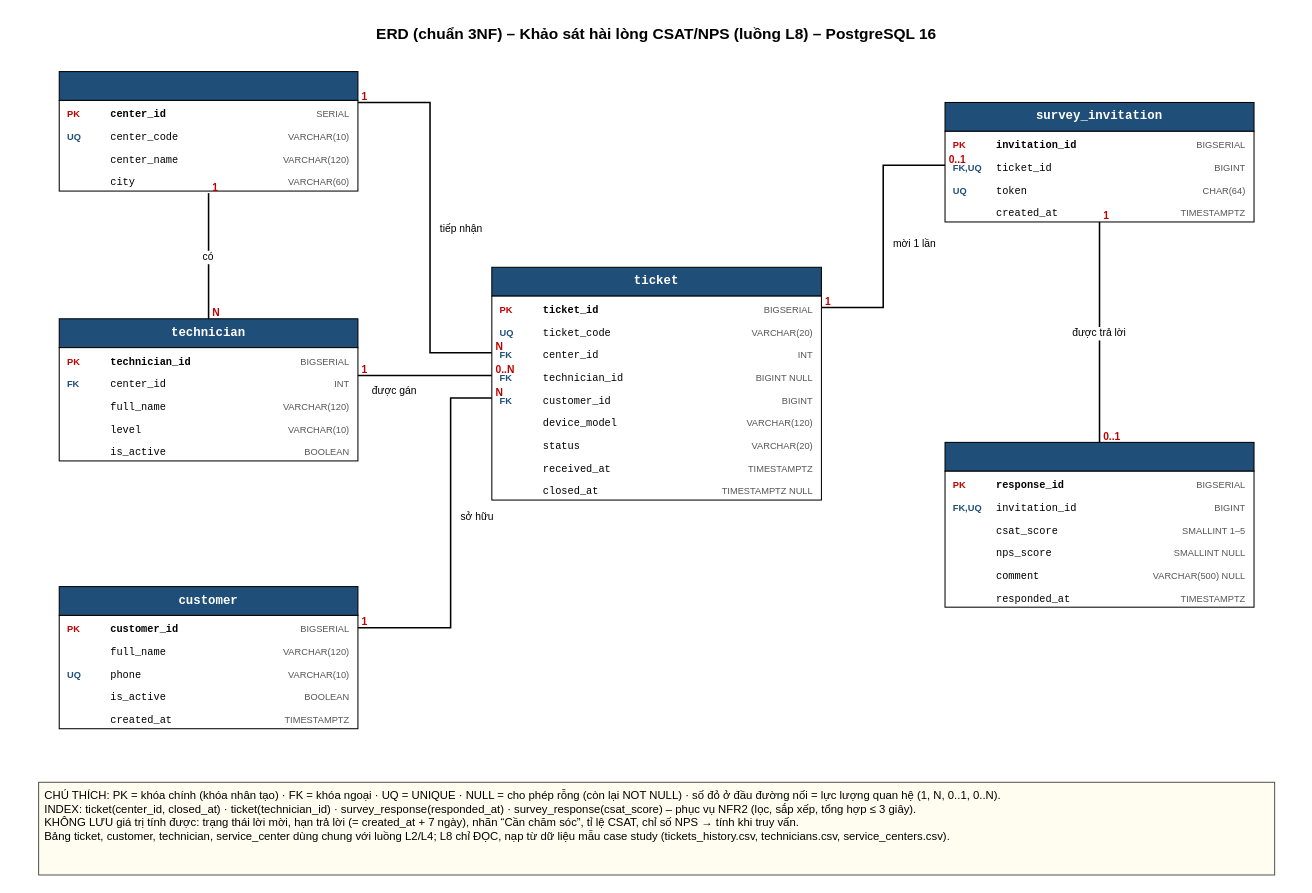
The diagram is 1312 pixels wide and 893 high, and some of its shapes have lost their labels. The shapes that lost their labels are listed below. From the top down, each one's centre as x and y in pixels, then its label:
At (208,85): "service_center".
At (1099,456): "survey_response".
